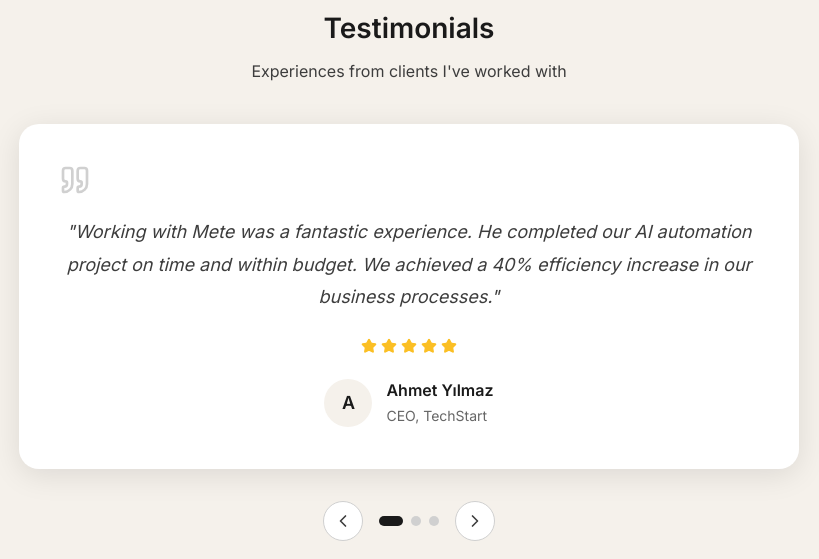
Scenario: Testimonials › navigation › navigates to previous testimonial
Note: First go to next
Click the button named "Next testimonial": coordinates (475, 521) [455,501,495,541]
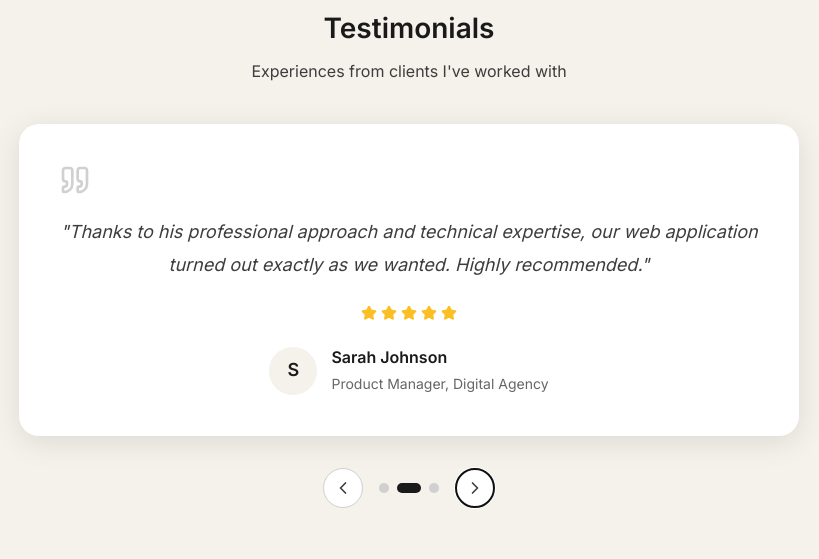
Note: Then go back
Click the button named "Previous testimonial": coordinates (343, 488) [323,468,363,508]
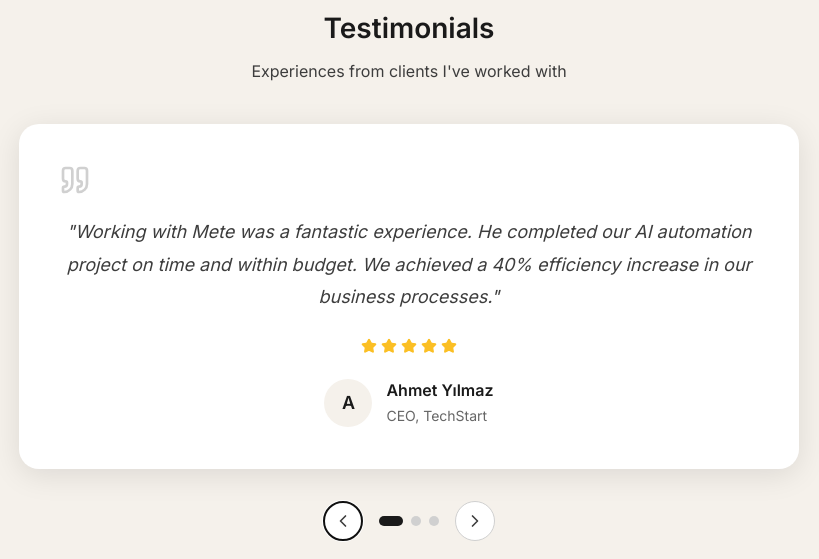
expect the text "Ahmet Yılmaz" is shown: met, box [386,378,494,403]
